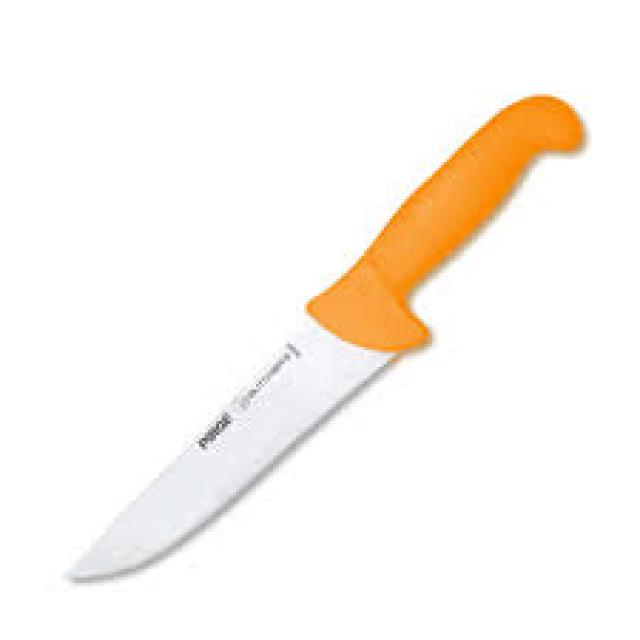Knife: (68, 94, 583, 580)
